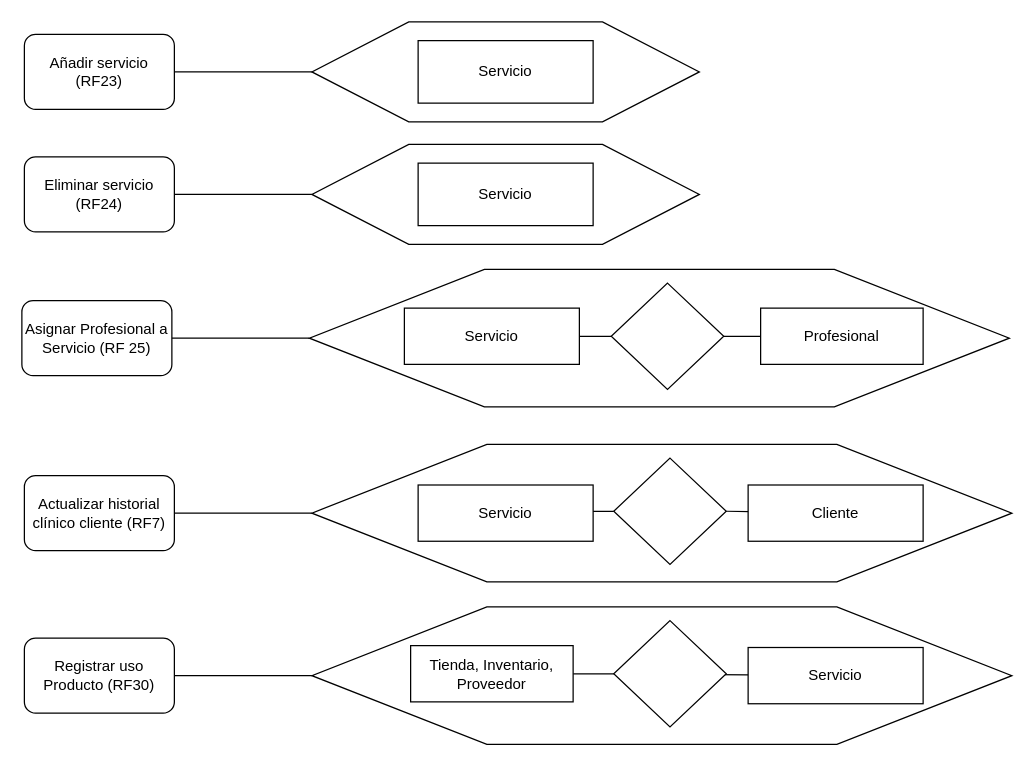
The diagram is 1034 pixels wide and 766 high, and some of its shapes have lost their labels. Each missing label, with the centre of its shape:
asignación: pixel 667 335
historial: pixel 669 510
producto: pixel 669 673
